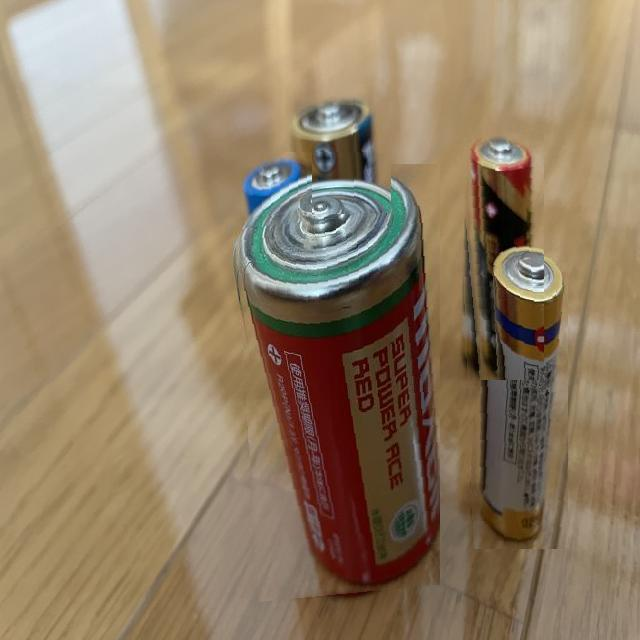battery: (232, 165, 440, 602), (462, 236, 568, 549), (457, 122, 544, 380), (286, 84, 392, 214), (230, 152, 312, 230)
